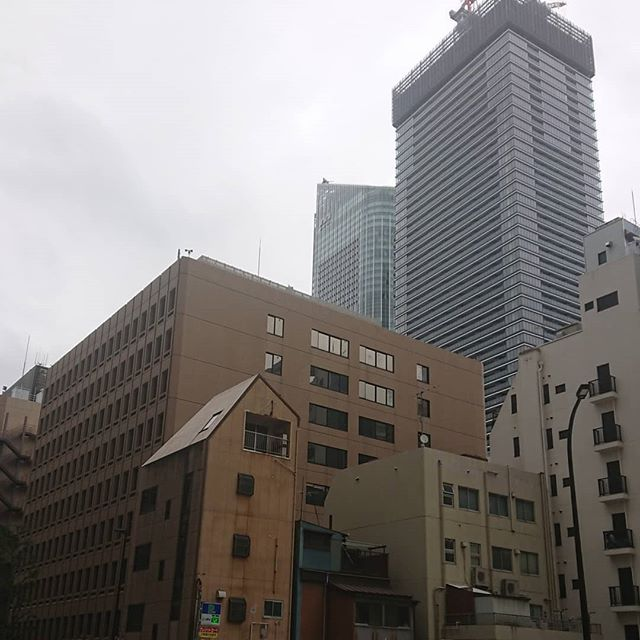building: (42, 310, 495, 640), (383, 1, 597, 354), (505, 246, 640, 640), (293, 177, 397, 328)
sky: (1, 1, 316, 280)
